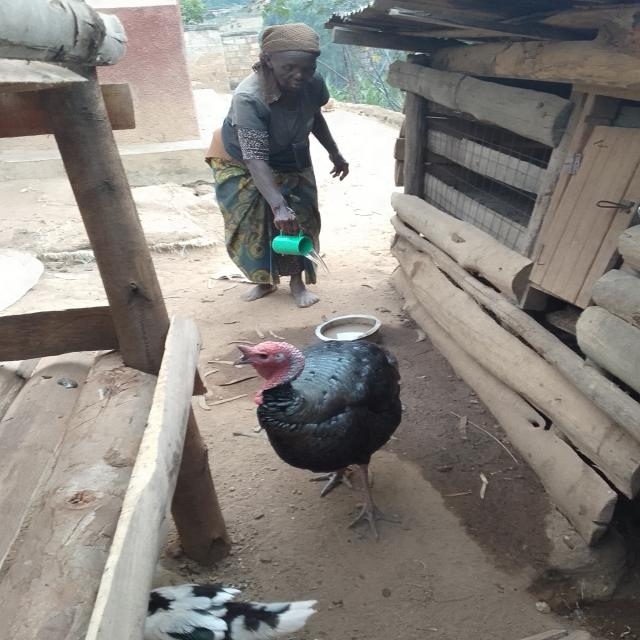turkey: (181, 302, 450, 557)
